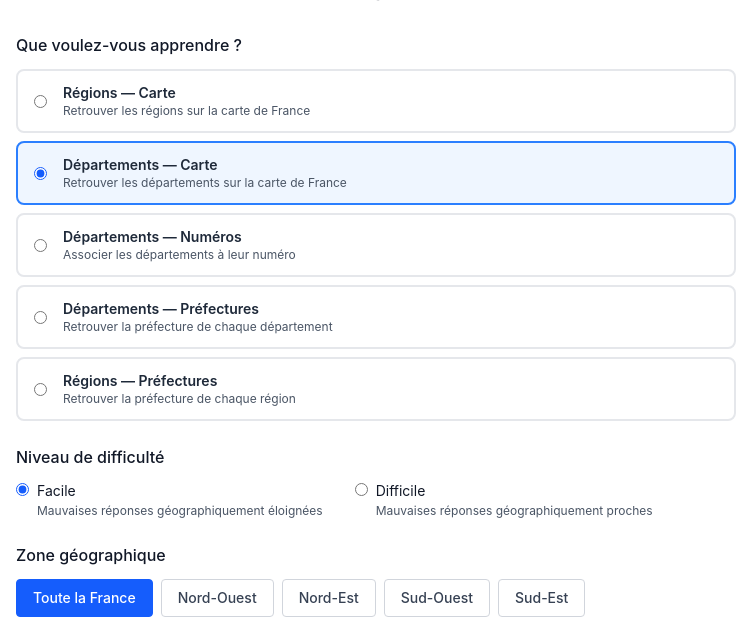
Test: QuizConfig – zone géographique › n'affiche pas d'avertissement si la longueur est inférieure au nombre de depts
Click the button "Nord-Ouest" at (217,598), box [161,579,274,617]
(page scrolled)
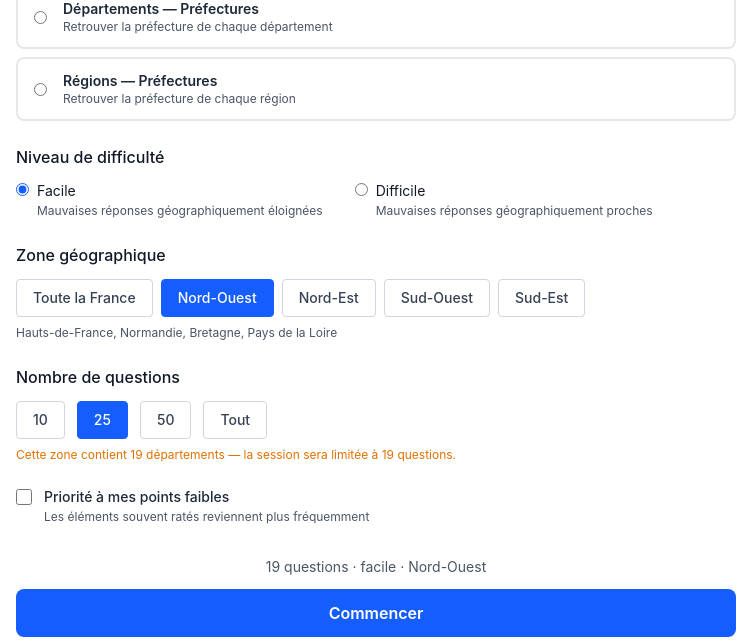
Click the button "10" at (40,420), box [16,401,65,439]
(page scrolled)
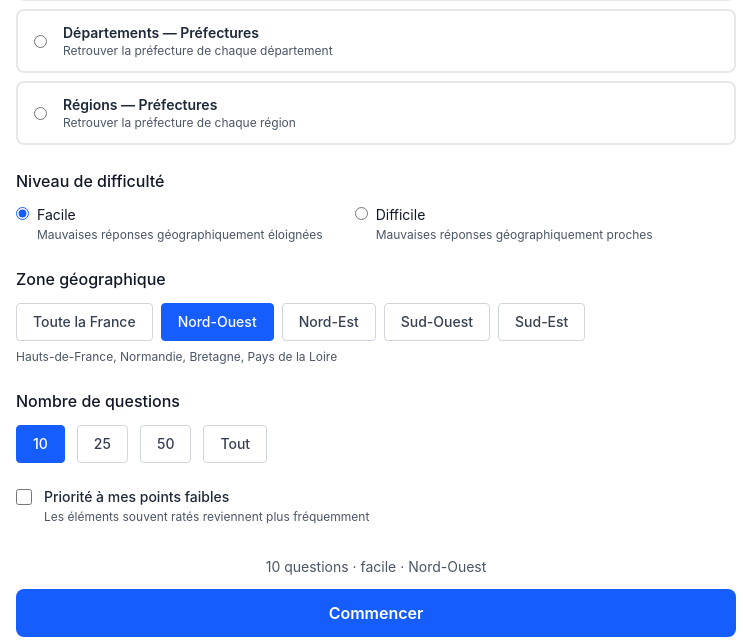
Result: the text "sera limitée" is gone
